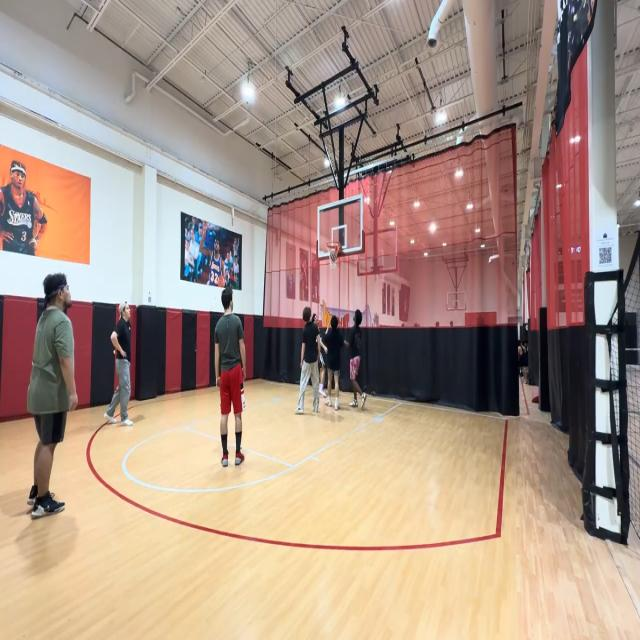Basketball: (330, 250, 337, 262)
Basketball Rim: (326, 240, 340, 268)
Player: (26, 272, 77, 522), (213, 288, 249, 466), (104, 299, 135, 429), (298, 307, 322, 420), (344, 307, 368, 412), (325, 316, 345, 418)
